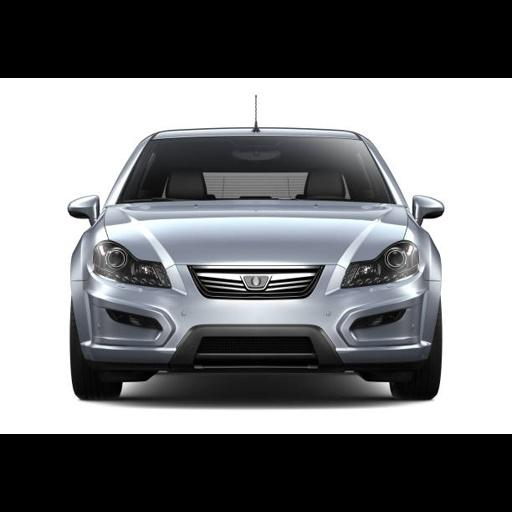hatchback: (70, 128, 442, 397)
